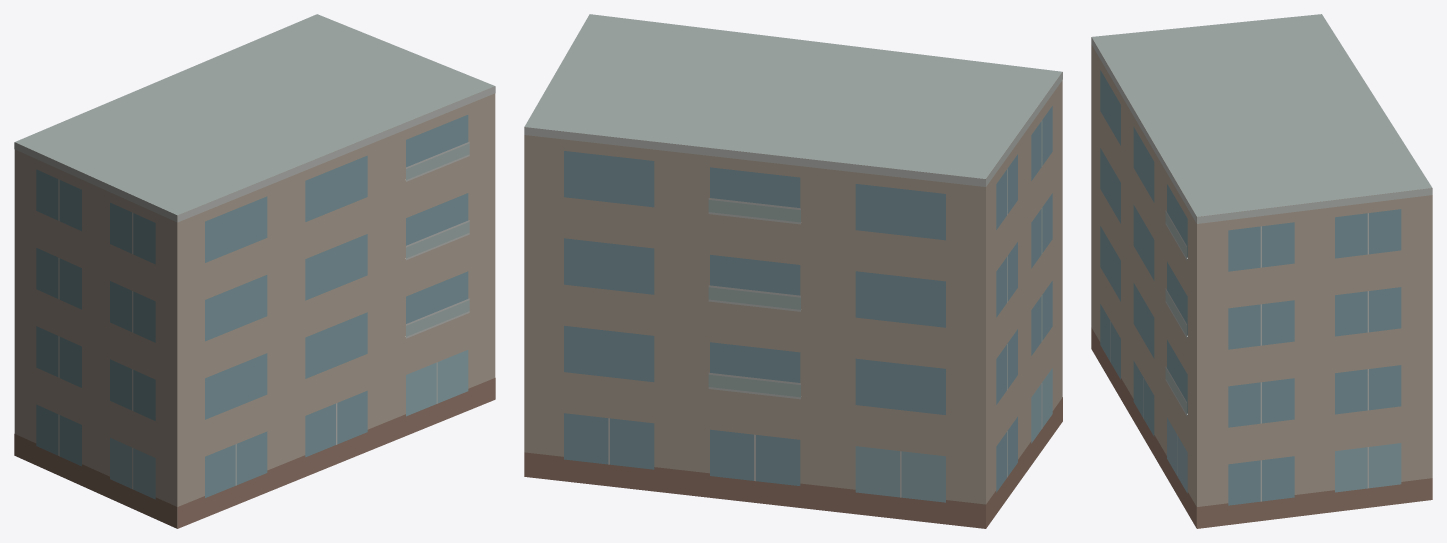
The model's file is survey-upis-32953645.glb.
The picture shows the model from 3 angles, left to right: view 1: azimuth 30°, elevation 25°; view 2: azimuth 150°, elevation 25°; view 3: azimuth 270°, elevation 25°; orthographic projection. The views are drawn at different scales.
Visible parts, largest first — view 1: survey-upis-32953645.tmp; view 2: survey-upis-32953645.tmp; view 3: survey-upis-32953645.tmp.
Boxes of the visible parts, x1,y1,x2,y2 form: survey-upis-32953645.tmp: [14, 14, 495, 528]; survey-upis-32953645.tmp: [524, 14, 1062, 528]; survey-upis-32953645.tmp: [1091, 14, 1432, 528].
Size of the model in its own units: 14.94 by 10.7 by 10.62.
